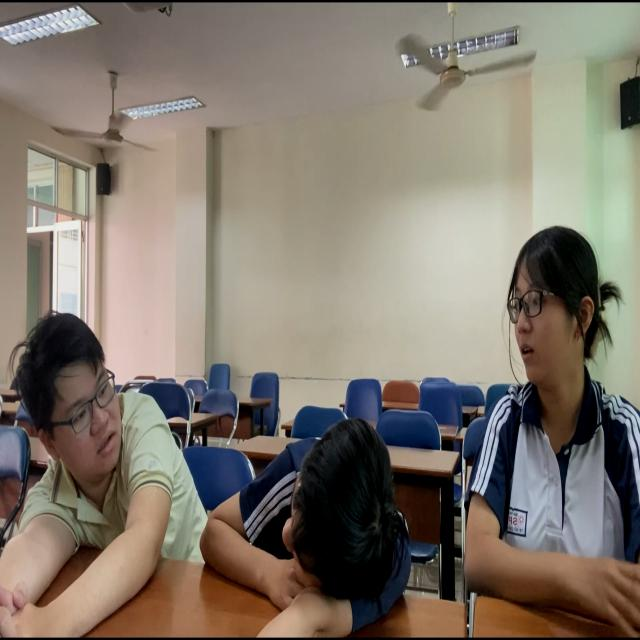sleep: (204, 395, 437, 639)
